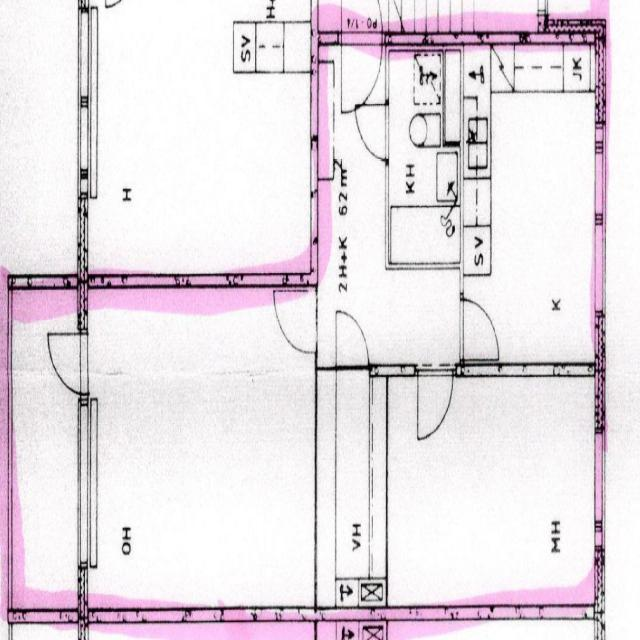door: (270, 283, 321, 363), (43, 324, 93, 398), (340, 40, 387, 118), (412, 362, 455, 444), (458, 293, 504, 369), (331, 306, 371, 375), (354, 100, 391, 165)
window: (71, 0, 107, 210), (589, 114, 611, 330), (75, 395, 99, 581), (592, 429, 608, 561)
